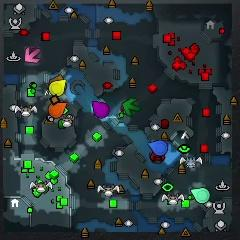p1: (149, 139, 168, 156)
p2: (190, 187, 210, 204)
p3: (92, 101, 109, 118)
p4: (49, 79, 66, 96)
p5: (48, 102, 66, 118)
x1: (25, 47, 40, 63)
x4: (123, 97, 139, 115)
x5: (49, 74, 63, 83)
